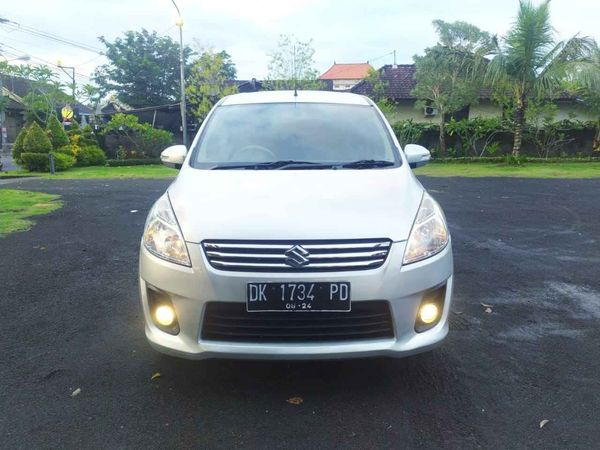plate: (245, 279, 357, 313)
